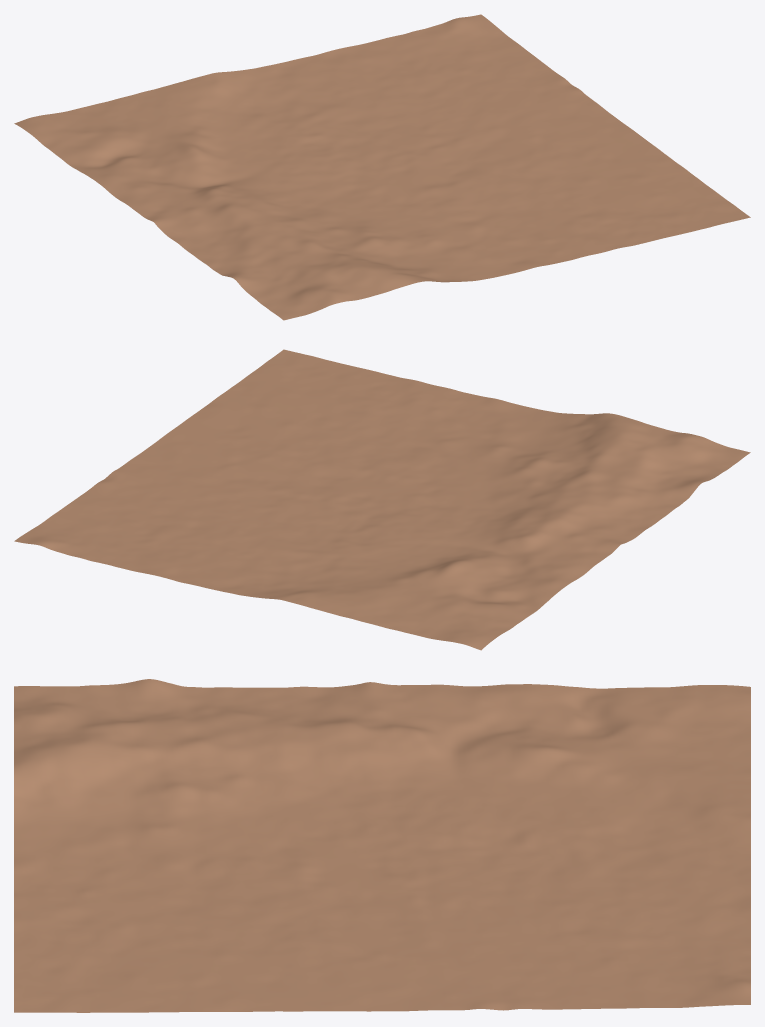
The model's file is marte_jezero.glb.
3 views of the same model, one above another, from view 1: azimuth 30°, elevation 25°; view 2: azimuth 150°, elevation 25°; view 3: azimuth 270°, elevation 25° (orthographic). The views are drawn at different scales.
Visible parts, largest first — view 1: marte_jezero; view 2: marte_jezero; view 3: marte_jezero.
Part boxes in pixels (box(x1,y1,x2,y2)): marte_jezero: box(14, 14, 750, 320); marte_jezero: box(14, 349, 750, 650); marte_jezero: box(14, 679, 750, 1012).
Size of the model in its own units: 29.8 by 1.21 by 29.8.
